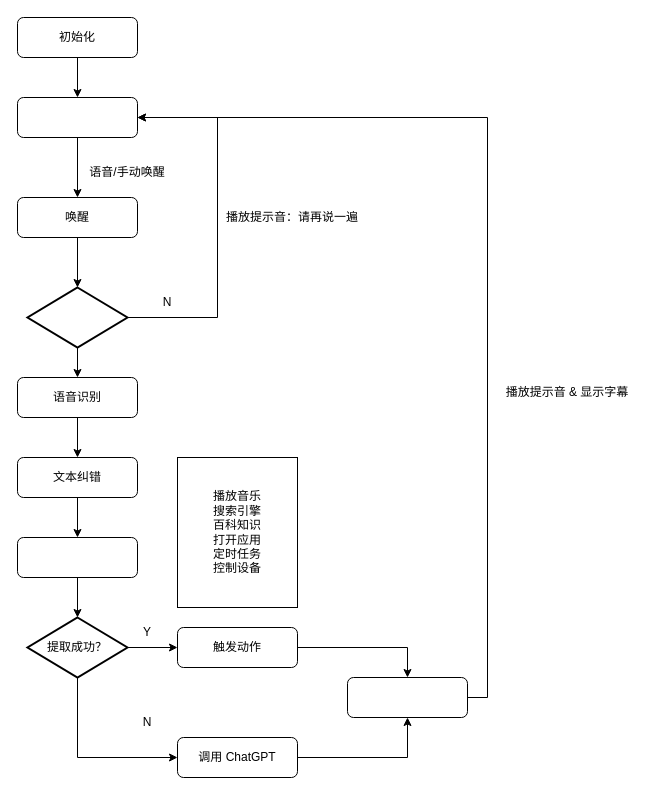
Image size: 655x795. Some labels were removed from this diagram. Here are the shapes that lost their labels. From the top down, the centre of each, then its label:
(77,117): 休眠
(77,317): 检测到声音？
(77,557): 意图理解
(407,697): 语音合成
